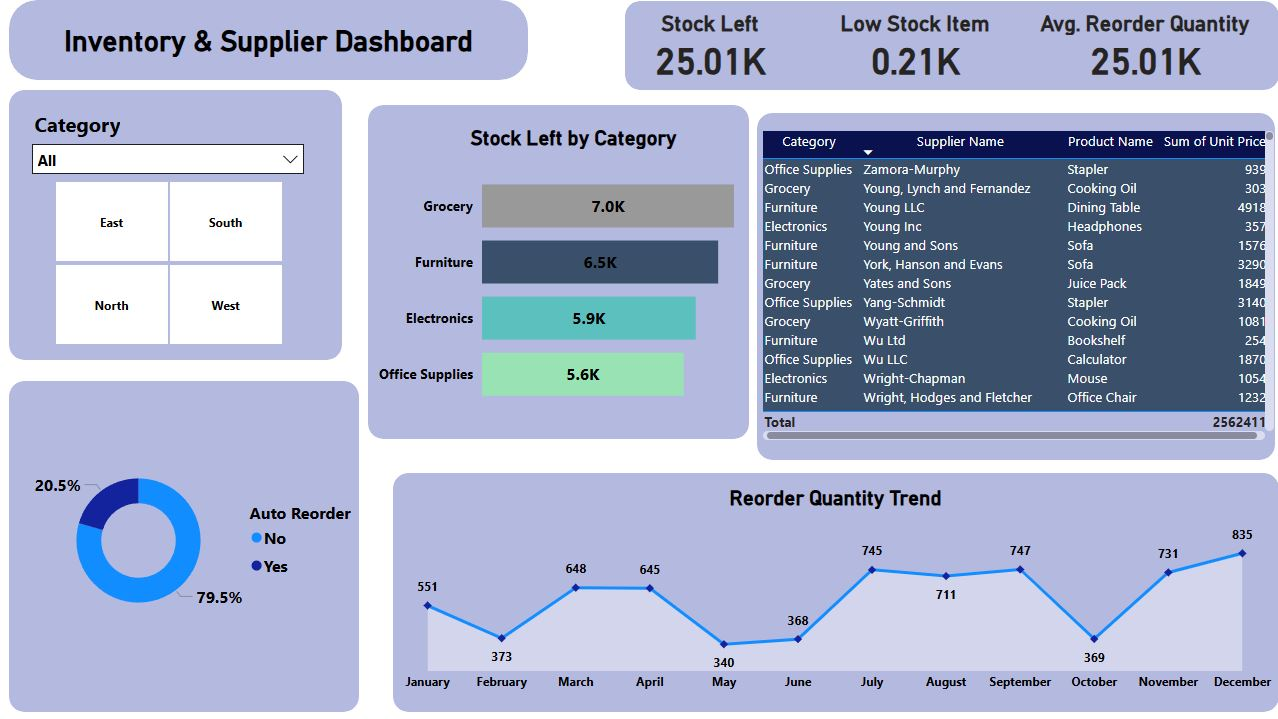

The page's visual inventory and layout, read from the dashboard file:
{"tool":"powerbi","page":{"name":"Page 2","canvas":[1280,720],"ordinal":1},"visuals":[{"type":"shape","box":[10,0,519,80],"z":0},{"type":"shape","box":[10,90,333,270],"z":1000},{"type":"slicer","fields":{"Values":["Superstore_Management_System.Category"]},"box":[23,105,292,100],"z":2000},{"type":"slicer","fields":{"Values":["Superstore_Management_System.Region"]},"box":[31,175,276,176],"z":3000},{"type":"shape","box":[626,1,654,89],"z":4000},{"type":"card","title":"Stock Left","fields":{"Values":["Sum(Superstore_Management_System.Stock Left)"]},"box":[640,11,143,69],"z":5000},{"type":"card","title":"Low Stock Item","fields":{"Values":["CountNonNull(Superstore_Management_System.Stock Left)"]},"box":[835,11,163,69],"z":6000},{"type":"card","title":"Avg. Reorder Quantity","fields":{"Values":["Sum(Superstore_Management_System.Stock Left)"]},"box":[1025,11,243,69],"z":7000},{"type":"shape","box":[9.7,381.2,350,330.5],"z":8000},{"type":"donutChart","title":"Auto Reorder","fields":{"Category":["Superstore_Management_System.Auto Reorder"],"Y":["CountNonNull(Superstore_Management_System.Auto Reorder)"]},"box":[23.4,381.2,346.1,318.8],"z":9000},{"type":"shape","box":[393.8,472.8,886.2,238.8],"z":10000},{"type":"lineChart","title":" Reorder Quantity Trend","fields":{"Category":["Superstore_Management_System.Ship Date.Variation.Date Hierarchy.Month"],"Y":["Sum(Superstore_Management_System.Reorder Quantity)"]},"box":[393.8,486.5,886.2,213.5],"z":11000},{"type":"shape","box":[758.4,113.1,517.7,347.1],"z":12000},{"type":"shape","box":[369.5,105.3,380.2,333.4],"z":13000},{"type":"barChart","title":"Stock Left by Category ","fields":{"Category":["Superstore_Management_System.Category"],"Y":["Sum(Superstore_Management_System.Stock Left)"],"Series":["Superstore_Management_System.Category"]},"box":[373.4,125.8,403.6,299.3],"z":14000},{"type":"tableEx","fields":{"Values":["Superstore_Management_System.Category","Superstore_Management_System.Supplier Name","Superstore_Management_System.Product Name","Sum(Superstore_Management_System.Unit Price)"]},"box":[766.4,126,513.6,327.5],"z":15000}]}

Visuals, with their boxes in screenshot pixels (x1, y1, x2, y2), scaled from the page's 1280x720 canvas onto the 1278x719 screenshot:
shape: detection(10, 0, 528, 80)
shape: detection(10, 90, 342, 360)
slicer - Superstore_Management_System.Category: detection(23, 105, 315, 205)
slicer - Superstore_Management_System.Region: detection(31, 175, 307, 351)
shape: detection(625, 1, 1277, 90)
"Stock Left" card: detection(639, 11, 782, 80)
"Low Stock Item" card: detection(834, 11, 996, 80)
"Avg. Reorder Quantity" card: detection(1023, 11, 1266, 80)
shape: detection(10, 381, 359, 711)
"Auto Reorder" donutChart: detection(23, 381, 369, 699)
shape: detection(393, 472, 1277, 711)
" Reorder Quantity Trend" lineChart: detection(393, 486, 1277, 699)
shape: detection(757, 113, 1274, 460)
shape: detection(369, 105, 749, 438)
"Stock Left by Category " barChart: detection(373, 126, 776, 425)
tableEx - Superstore_Management_System.Category x Superstore_Management_System.Supplier Name: detection(765, 126, 1277, 453)
